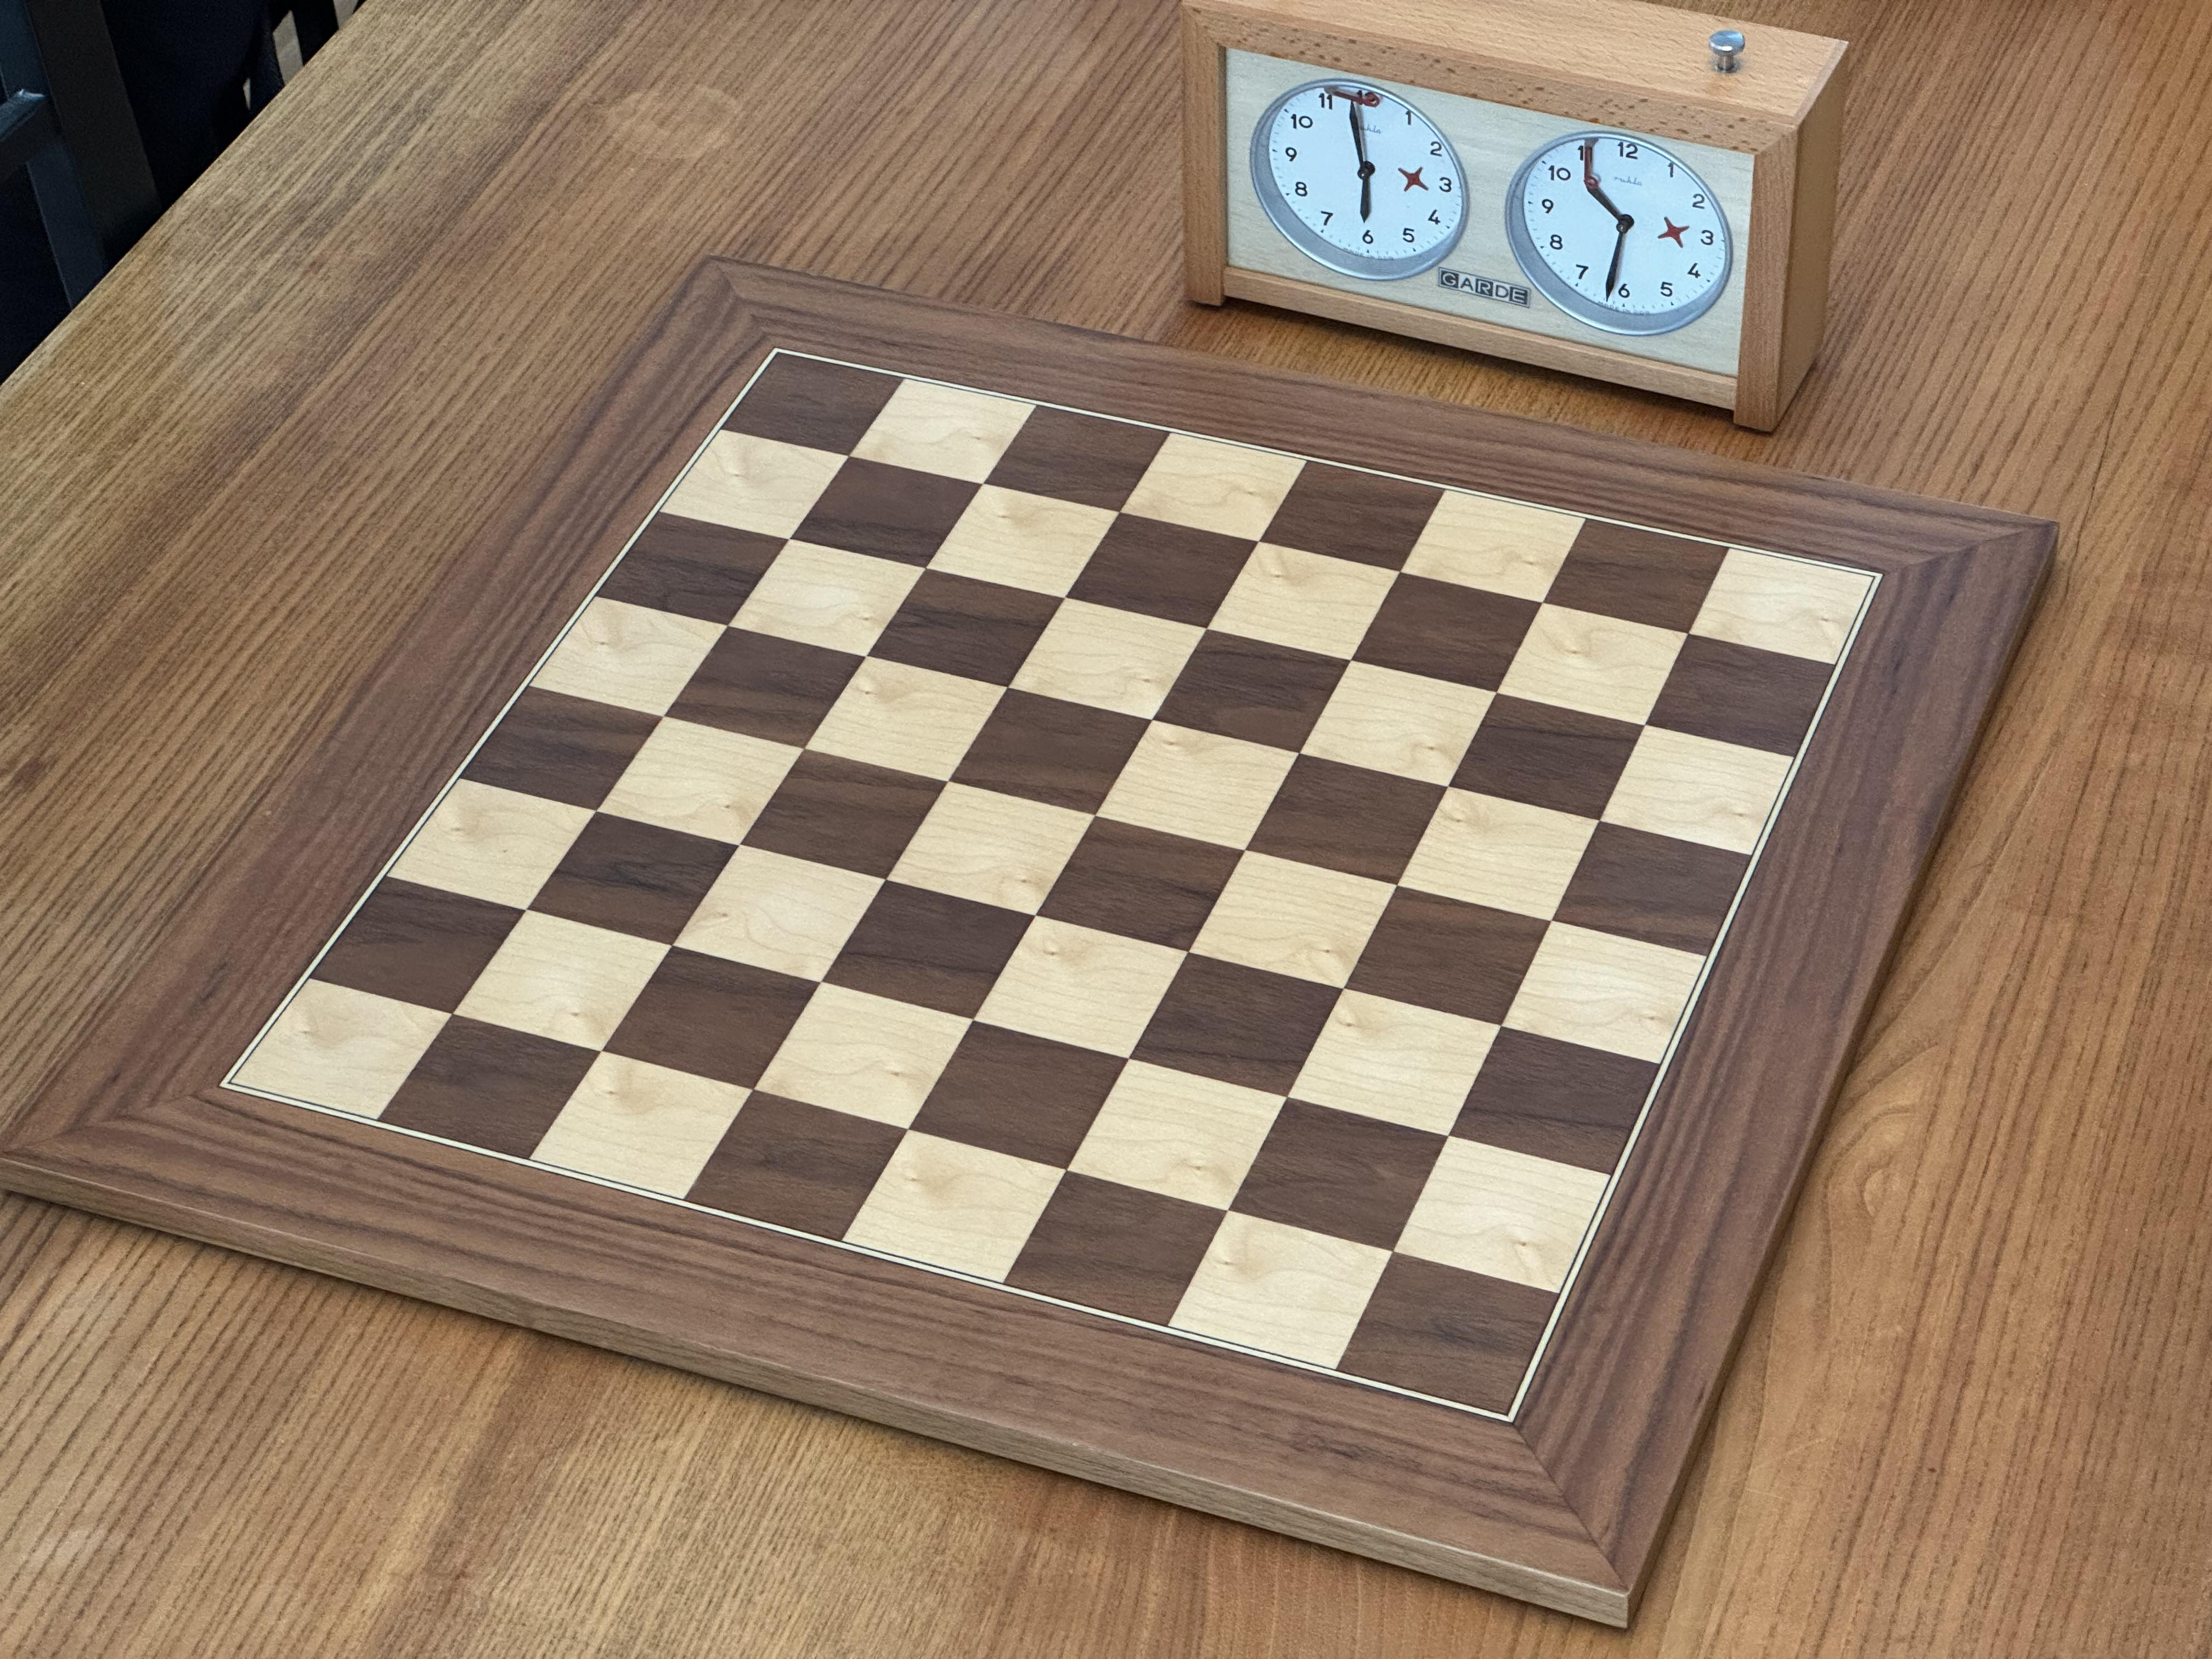corner A: (136, 1003, 306, 1170)
corner B: (1426, 1325, 1613, 1511)
corner C: (1796, 494, 1960, 664)
